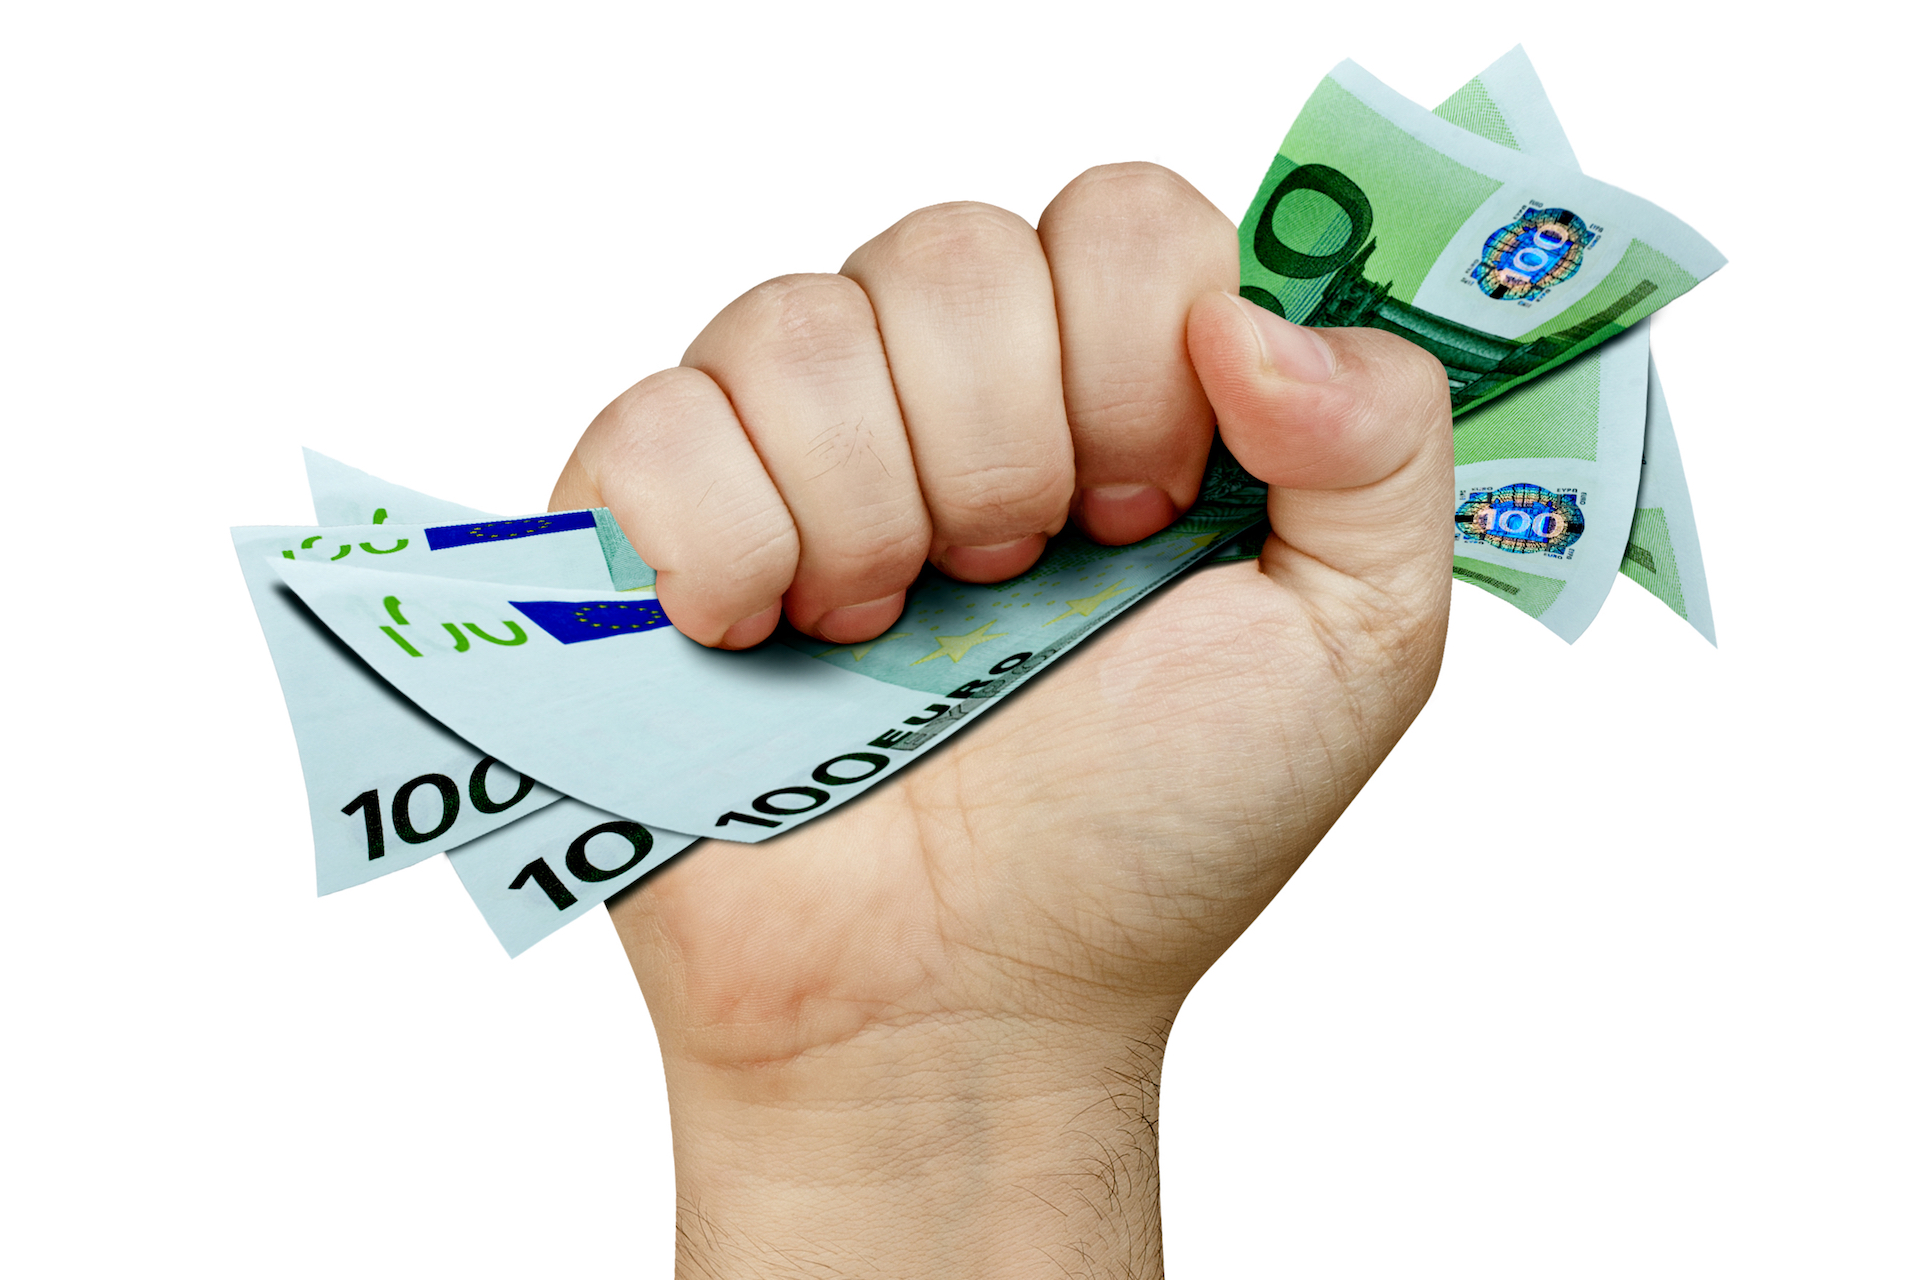billete: (226, 39, 1741, 964)
